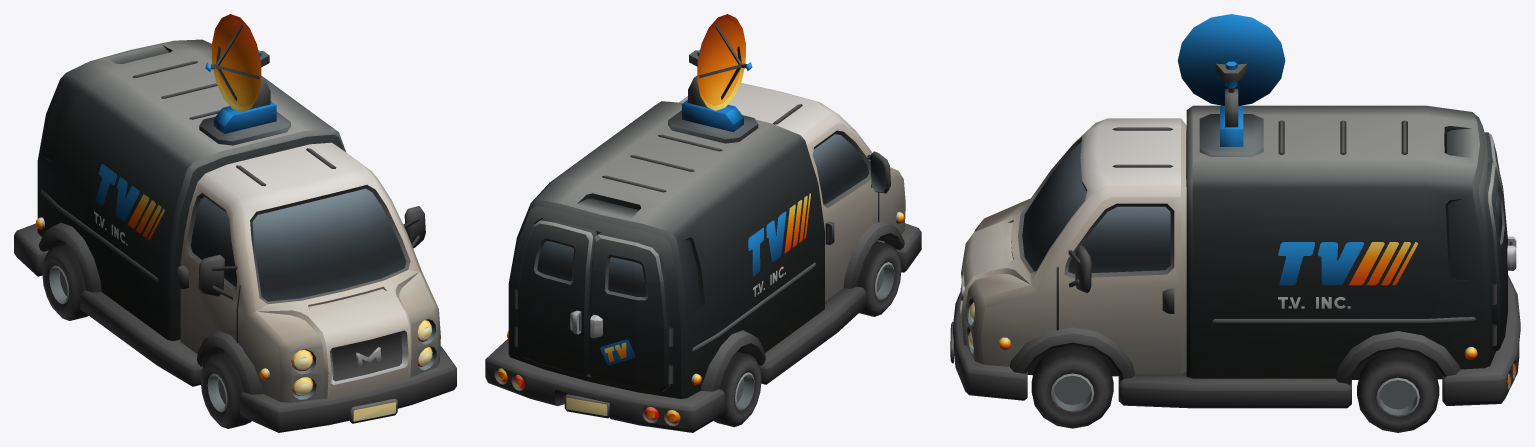
File: Car_2D.fbx
The picture shows the model from 3 angles, left to right: view 1: azimuth 30°, elevation 25°; view 2: azimuth 150°, elevation 25°; view 3: azimuth 270°, elevation 25°; orthographic projection. The views are drawn at different scales.
Parts seen in each view (by area): view 1: Car_2D, Receiver_2D, Wheel_2D_F.R, Wheel_2D_R.R, Livery_2D; view 2: Car_2D, Door_2D_R.R, Door_2D_R.L, Receiver_2D, Wheel_2D_F.R, Wheel_2D_R.R, Livery_2D, Livery_Door_2D; view 3: Car_2D, Receiver_2D, Wheel_2D_R.L, Wheel_2D_F.L, Livery_2D, Door_2D_R.L.
Part boxes in pixels (box(x1,y1,x2,y2)): Car_2D: box(14, 39, 456, 432); Receiver_2D: box(205, 14, 269, 112); Wheel_2D_F.R: box(200, 352, 251, 428); Wheel_2D_R.R: box(42, 244, 88, 320); Livery_2D: box(94, 164, 164, 245); Car_2D: box(485, 75, 921, 432); Door_2D_R.R: box(589, 232, 673, 391); Door_2D_R.L: box(514, 218, 596, 376); Receiver_2D: box(689, 14, 752, 110); Wheel_2D_F.R: box(858, 241, 901, 316); Wheel_2D_R.R: box(714, 351, 761, 427); Livery_2D: box(748, 193, 810, 296); Livery_Door_2D: box(600, 339, 635, 365); Car_2D: box(950, 88, 1520, 408); Receiver_2D: box(1177, 14, 1285, 105); Wheel_2D_R.L: box(1357, 349, 1439, 432); Wheel_2D_F.L: box(1031, 345, 1113, 428); Livery_2D: box(1278, 242, 1417, 308); Door_2D_R.L: box(1484, 162, 1516, 350).
Size of the model in its own units: 274 by 387 by 556.
